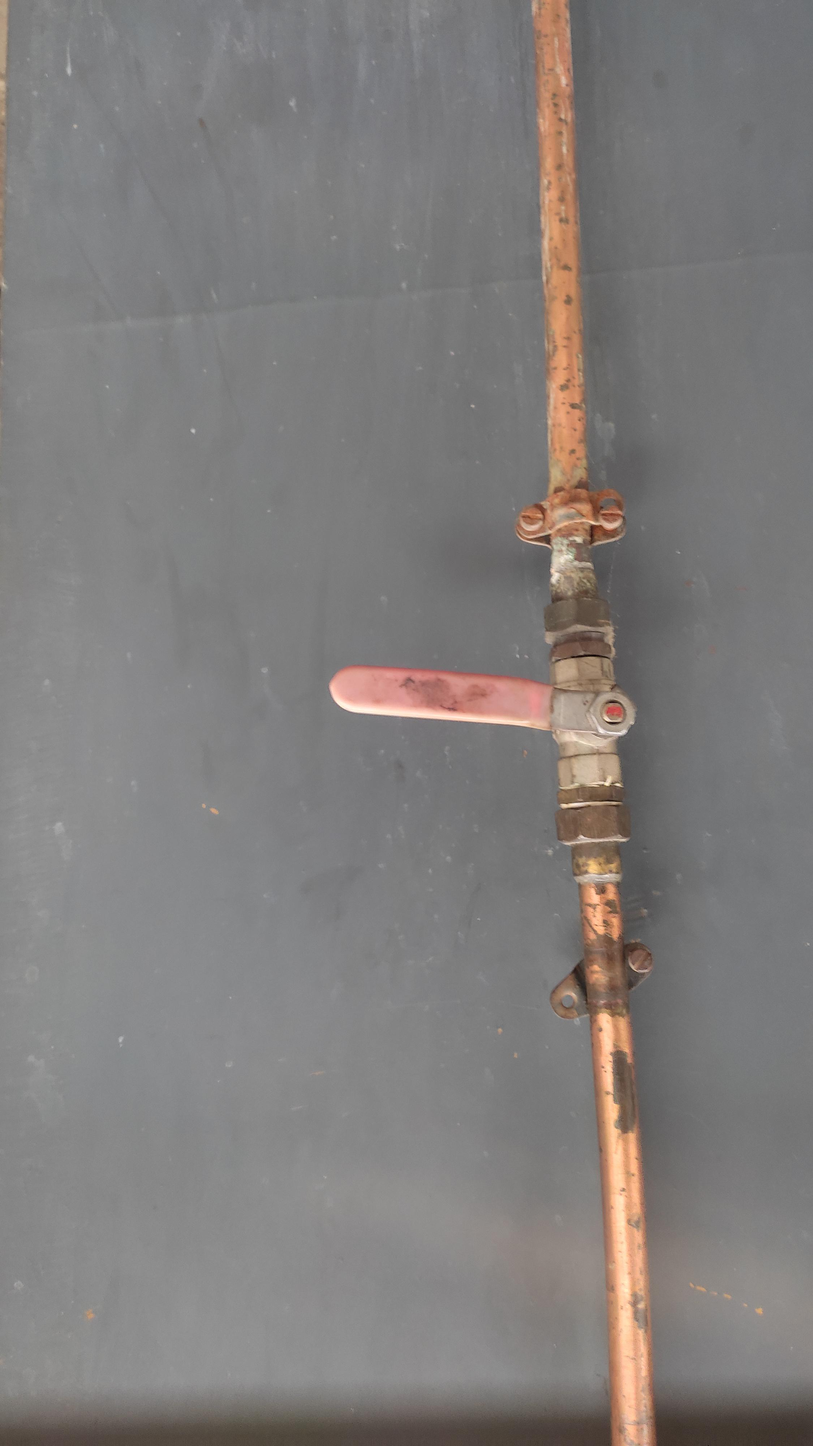closed valve: (328, 652, 637, 793)
